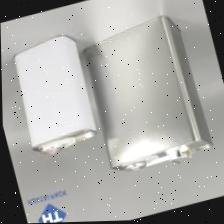metal: (72, 0, 224, 194), (0, 24, 110, 172)
